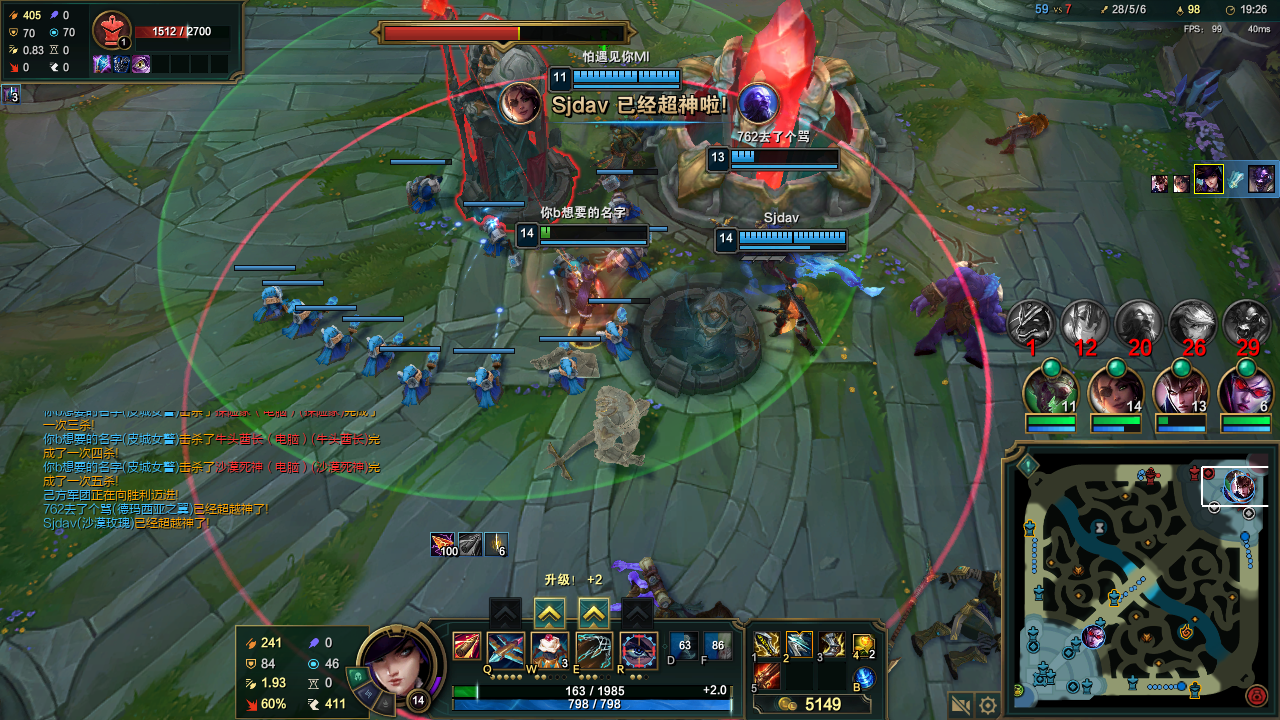DFFYT: (375, 27, 578, 218)
Shenji: (579, 606, 610, 626), (541, 603, 565, 622)
WFXB: (475, 215, 523, 267), (391, 362, 444, 406), (466, 369, 509, 416), (354, 337, 402, 378), (312, 317, 350, 362), (608, 184, 646, 226), (596, 313, 632, 351), (409, 173, 448, 205), (276, 295, 306, 332), (547, 359, 576, 393), (259, 288, 279, 319)
